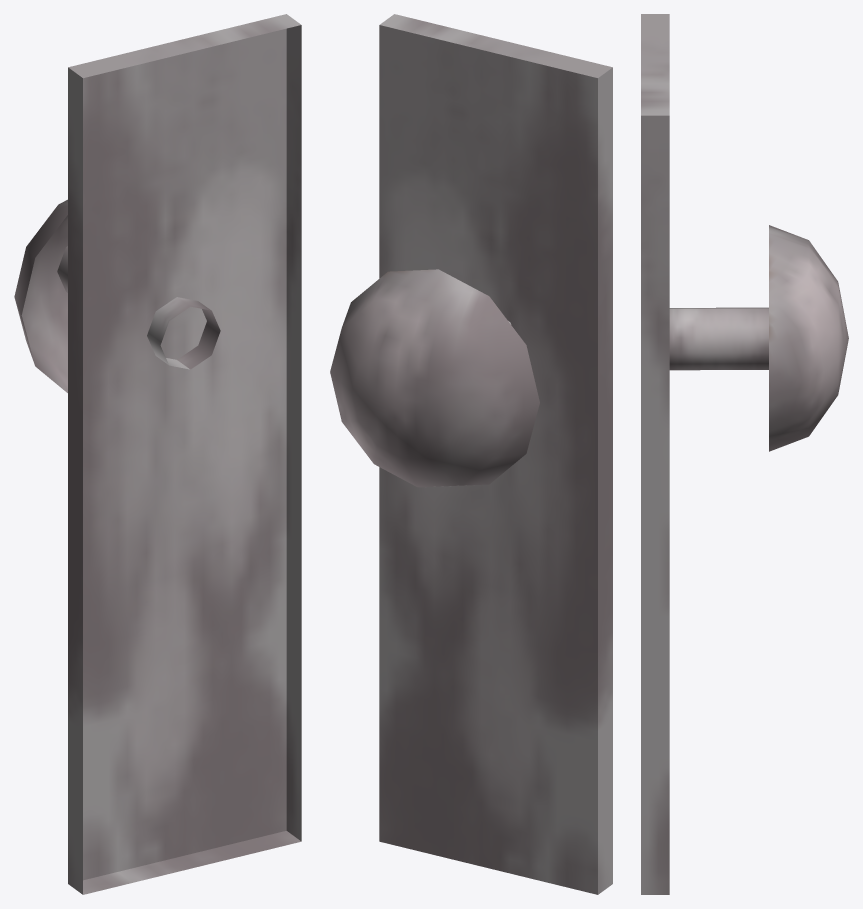
File: Door_knob_texture.fbx
3 renders of one model, left to right at view 1: azimuth 30°, elevation 25°; view 2: azimuth 150°, elevation 25°; view 3: azimuth 270°, elevation 25°, orthographic. The views are drawn at different scales.
Visible parts, largest first — view 1: Plane001; view 2: Plane001; view 3: Plane001.
Boxes of the visible parts, left/top/right/bottom form: Plane001: left=14, top=14, right=301, bottom=894; Plane001: left=330, top=14, right=612, bottom=894; Plane001: left=641, top=14, right=848, bottom=894.
Bounding box in the file's own units: 7 × 25 × 6.05.
